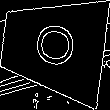O_W: (28, 22, 78, 72)
